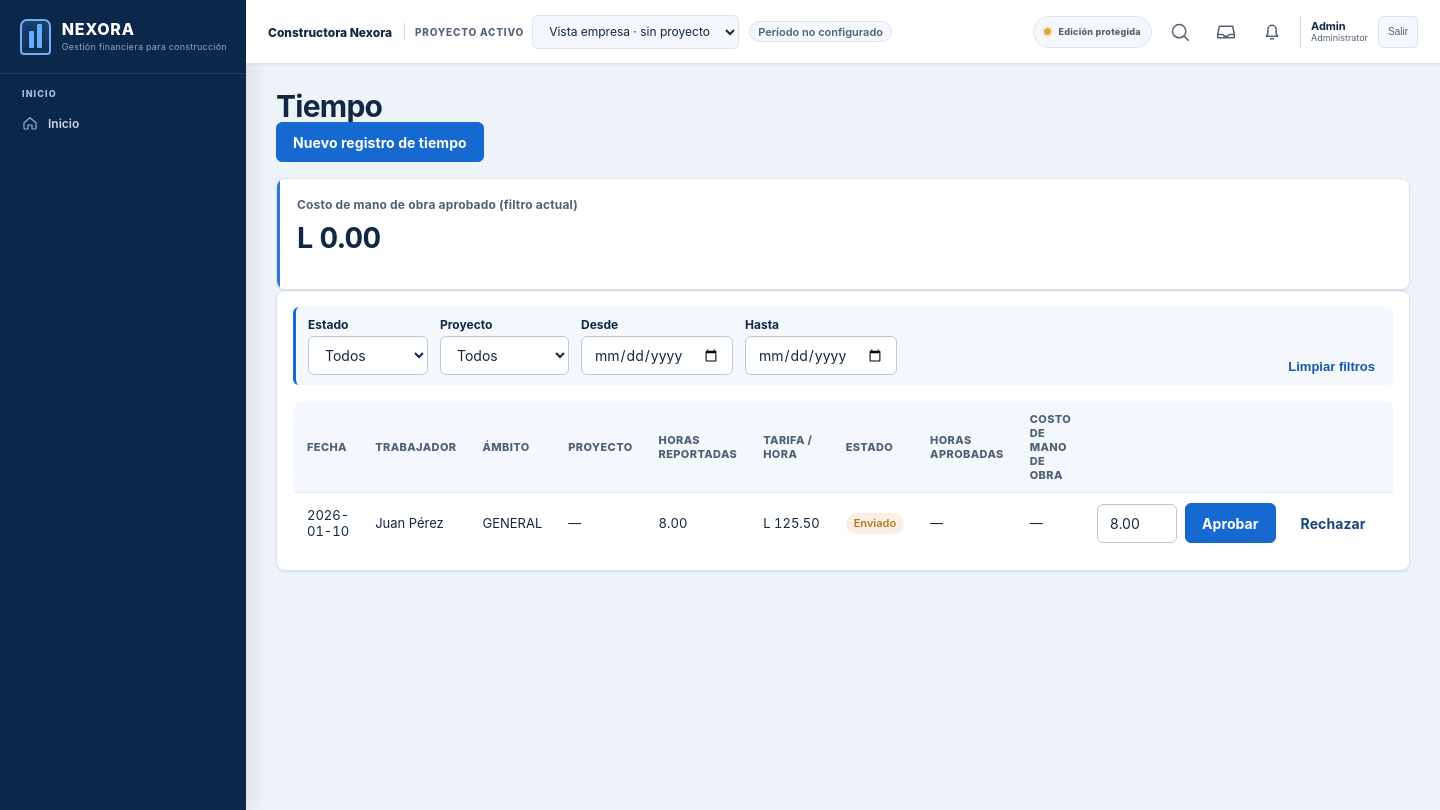
it: TimeEntriesPage › reloads Workers and TimeEntries from their real APIs, approves a time entry, and displays the server-computed labor cost
This screenshot has width=1440, height=810.
Check: the text "Juan Pérez" is shown, box [375,515,444,531]
Check: the text "Enviado" is shown, box [846,513,904,534]
Step 1. Click the button "Aprobar" → (1230,523), box [1185,503,1276,543]
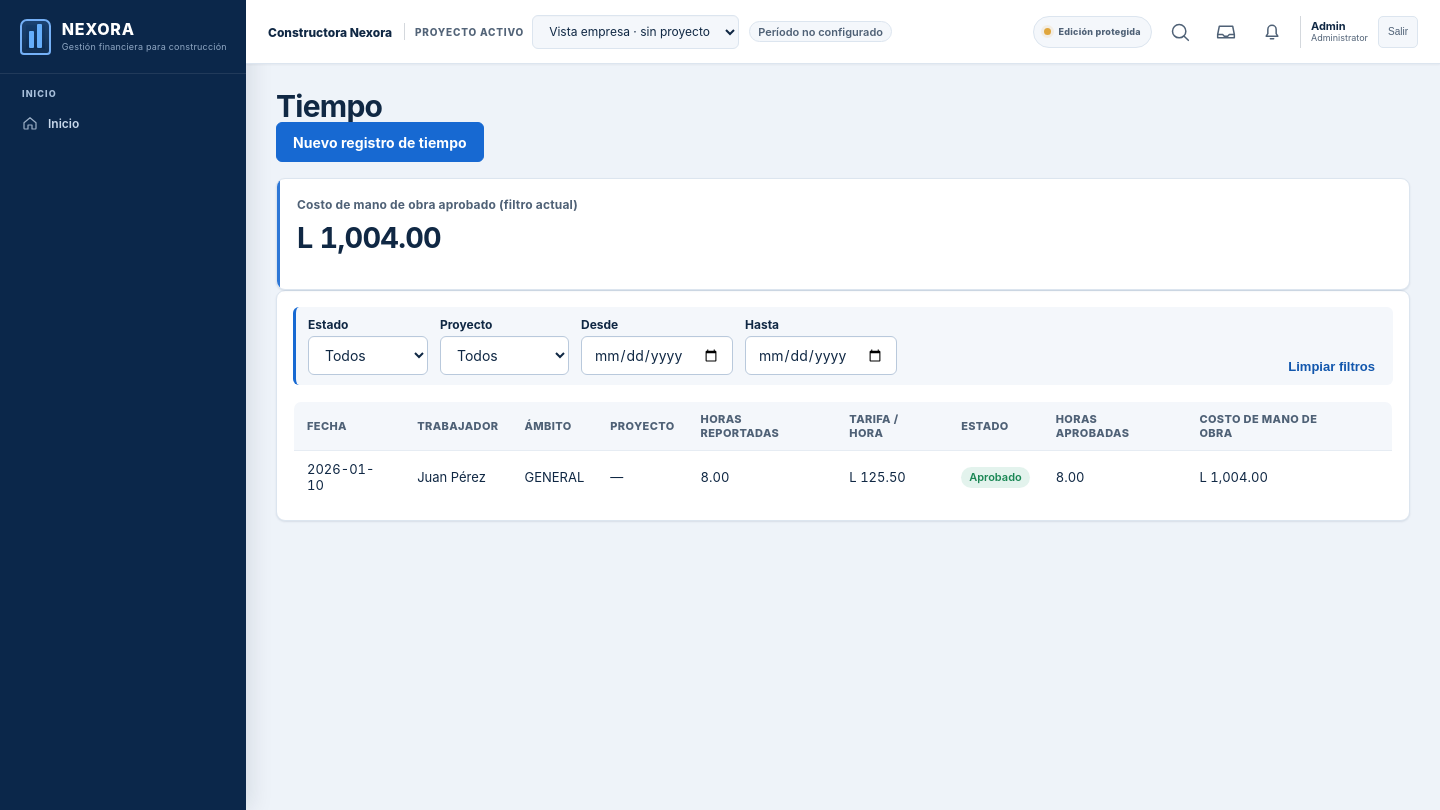
Check: the text "Aprobado" is shown, box [961,467,1030,488]
Check: the text "L 1,004.00" is shown, box [1186,451,1366,504]
